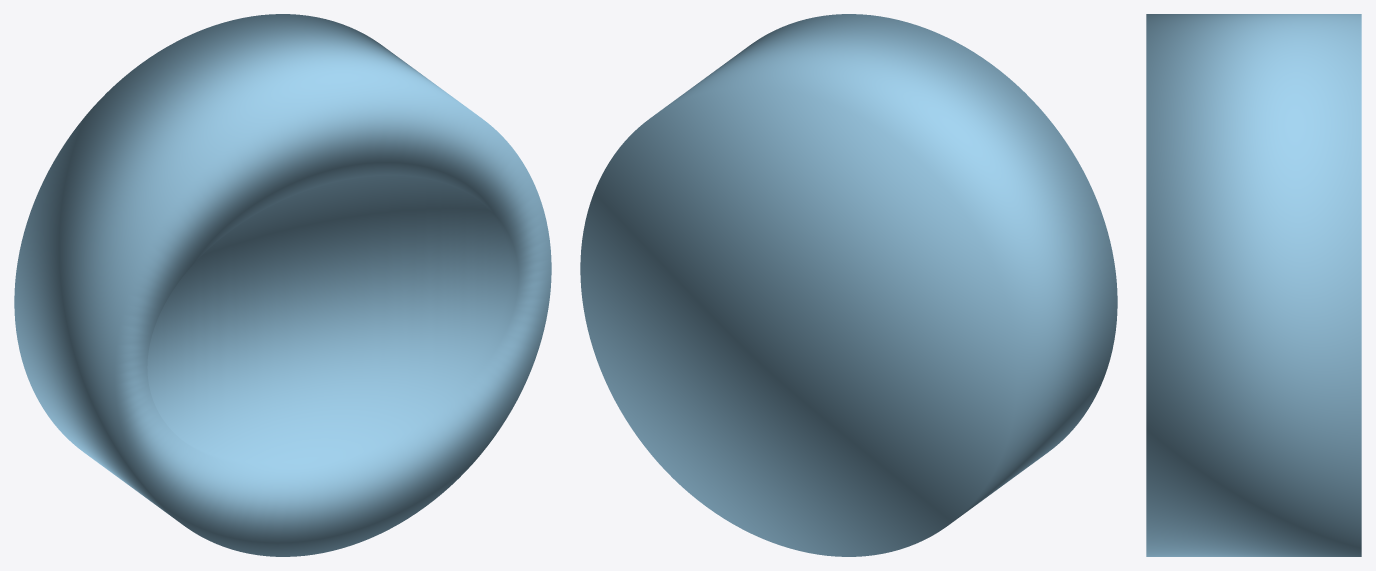
Rendered from mount_1_collision.obj.
3 views of the same model, side by side, from view 1: azimuth 30°, elevation 25°; view 2: azimuth 150°, elevation 25°; view 3: azimuth 270°, elevation 25° (orthographic). The views are drawn at different scales.
Size of the model in its own units: 0.063 by 0.063 by 0.025.
